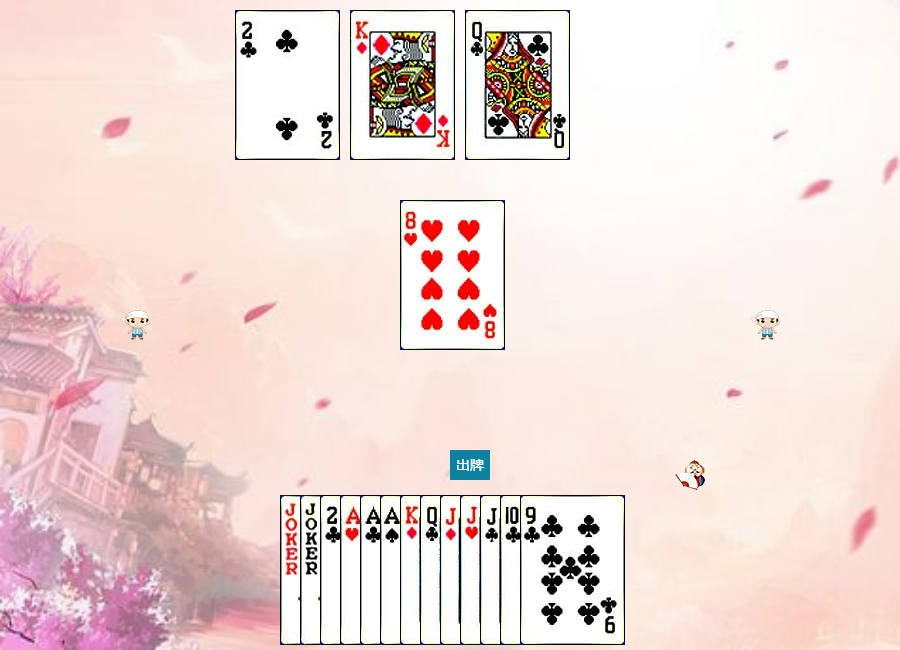10~2: (500, 495, 605, 645)
11~1: (440, 495, 545, 645)
11~2: (480, 495, 585, 645)
11~3: (460, 495, 565, 645)
12~2: (465, 10, 570, 160), (420, 495, 525, 645)
13~1: (350, 10, 455, 160), (400, 495, 505, 645)
14~2: (360, 495, 465, 645)
14~3: (340, 495, 445, 645)
14~4: (380, 495, 485, 645)
15~2: (235, 10, 340, 160), (320, 495, 425, 645)
17~3: (300, 495, 405, 645)
18~4: (280, 495, 385, 645)
8~3: (400, 200, 505, 350)
9~2: (520, 495, 625, 645)
